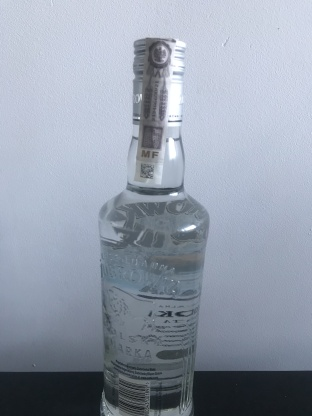nakretka: (130, 32, 188, 131)
